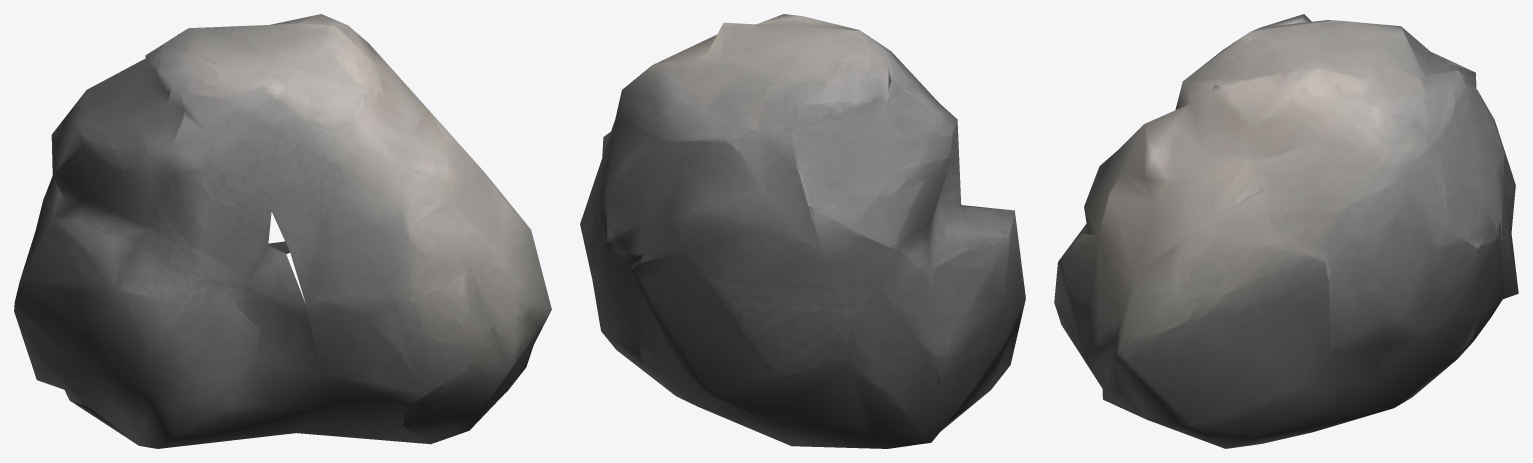
The model's file is pedra.glb.
3 renders of one model, left to right at view 1: azimuth 30°, elevation 25°; view 2: azimuth 150°, elevation 25°; view 3: azimuth 270°, elevation 25°, orthographic. The views are drawn at different scales.
Visible parts, largest first — view 1: tripo_node_cdcb959a-da3f-412c-b85f-a991c6e7f8d2; view 2: tripo_node_cdcb959a-da3f-412c-b85f-a991c6e7f8d2; view 3: tripo_node_cdcb959a-da3f-412c-b85f-a991c6e7f8d2.
Part boxes in pixels (x1=…): tripo_node_cdcb959a-da3f-412c-b85f-a991c6e7f8d2: x1=14, y1=14, x2=551, y2=448; tripo_node_cdcb959a-da3f-412c-b85f-a991c6e7f8d2: x1=580, y1=14, x2=1025, y2=448; tripo_node_cdcb959a-da3f-412c-b85f-a991c6e7f8d2: x1=1054, y1=14, x2=1518, y2=448.
Size of the model in its own units: 0.9758 by 0.7784 by 1.
Materials: 1 (1 with a texture image).
